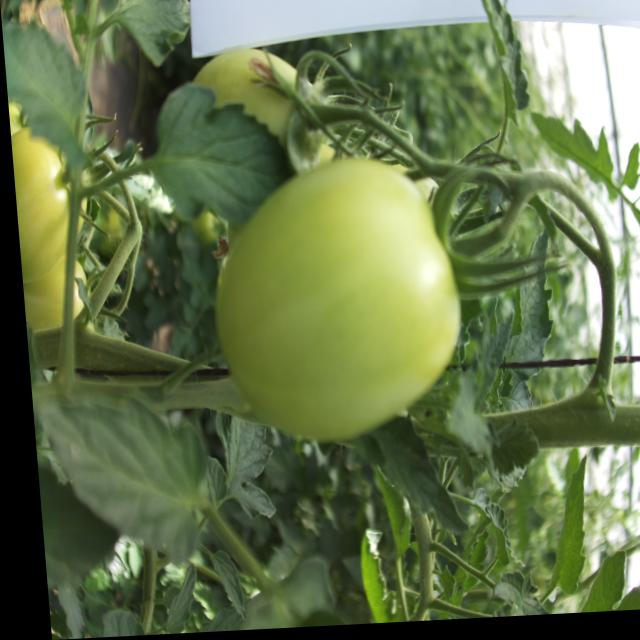yesil: (182, 157, 505, 460)
